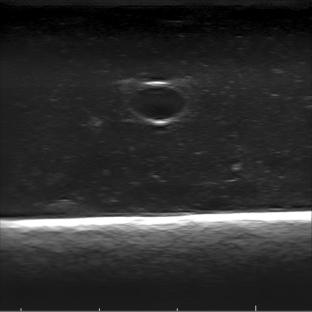vessel: (128, 80, 189, 125)
